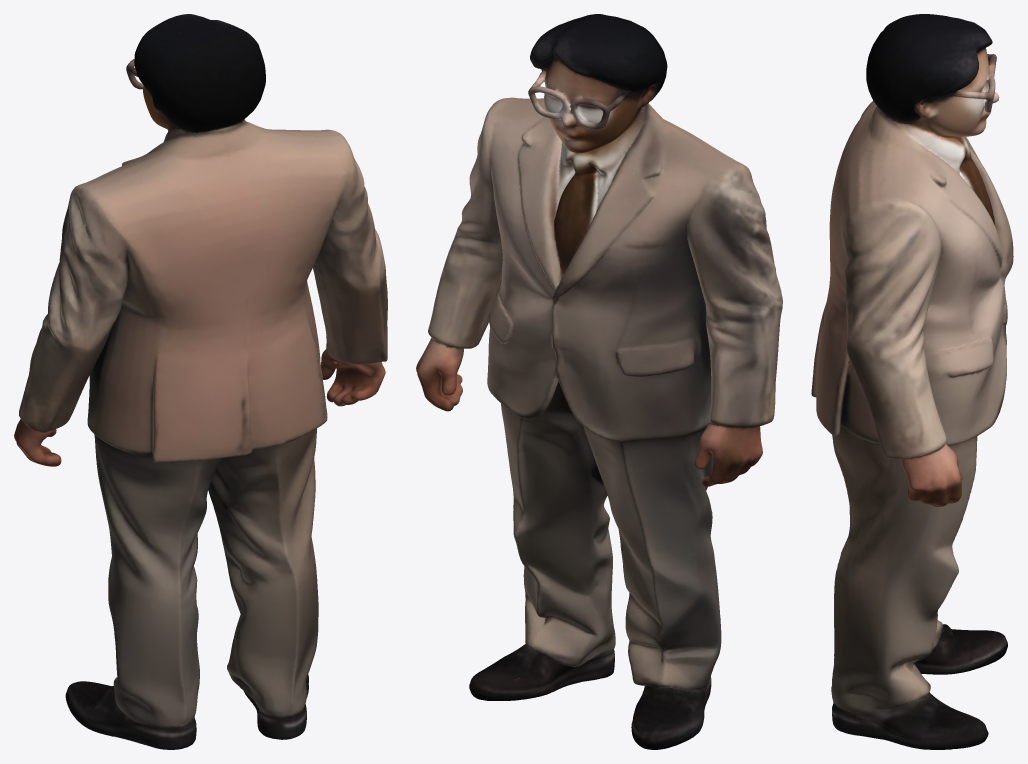
Rendered from CH_Player.glb.
3 views of the same model, side by side, from view 1: azimuth 30°, elevation 25°; view 2: azimuth 150°, elevation 25°; view 3: azimuth 270°, elevation 25° (orthographic).
Parts seen in each view (by area): view 1: world; view 2: world; view 3: world.
Boxes of the visible parts, x1,y1,x2,y2 form: world: (14, 14, 387, 749); world: (416, 14, 782, 749); world: (811, 14, 1013, 749).
Size of the model in its own units: 0.4888 by 0.9094 by 0.2447.
Materials: 1 (1 with a texture image).
